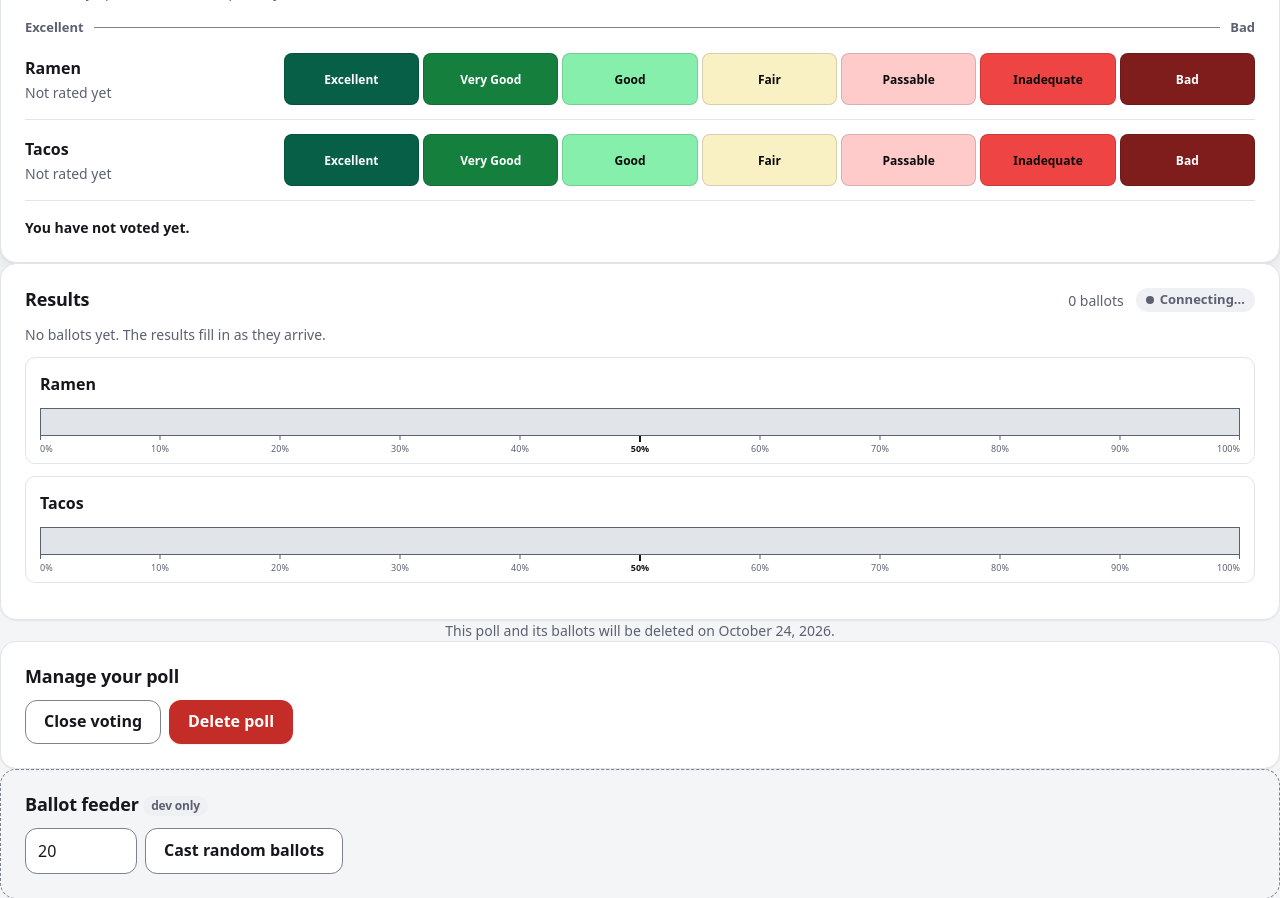
Test: managing a poll › closes voting for good, once the creator confirms
(page scrolled)
Click the button "Close voting": click(93, 722) [25,700,161,744]
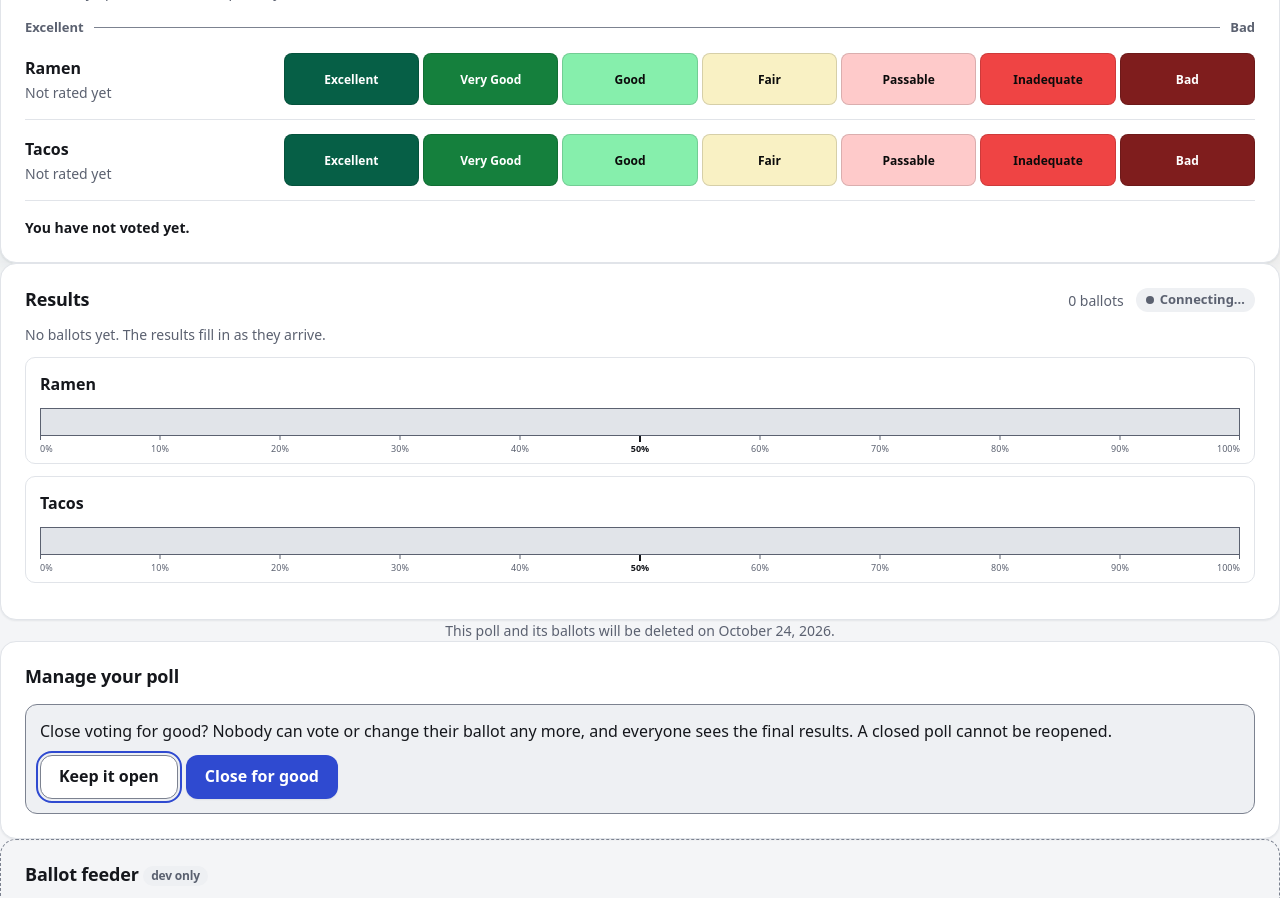
Expected: the dialog shows "A closed poll cannot be reopened.", [40,720,1112,742]
Click the button "Close for good": click(262, 777) [186,755,338,799]
(page scrolled)
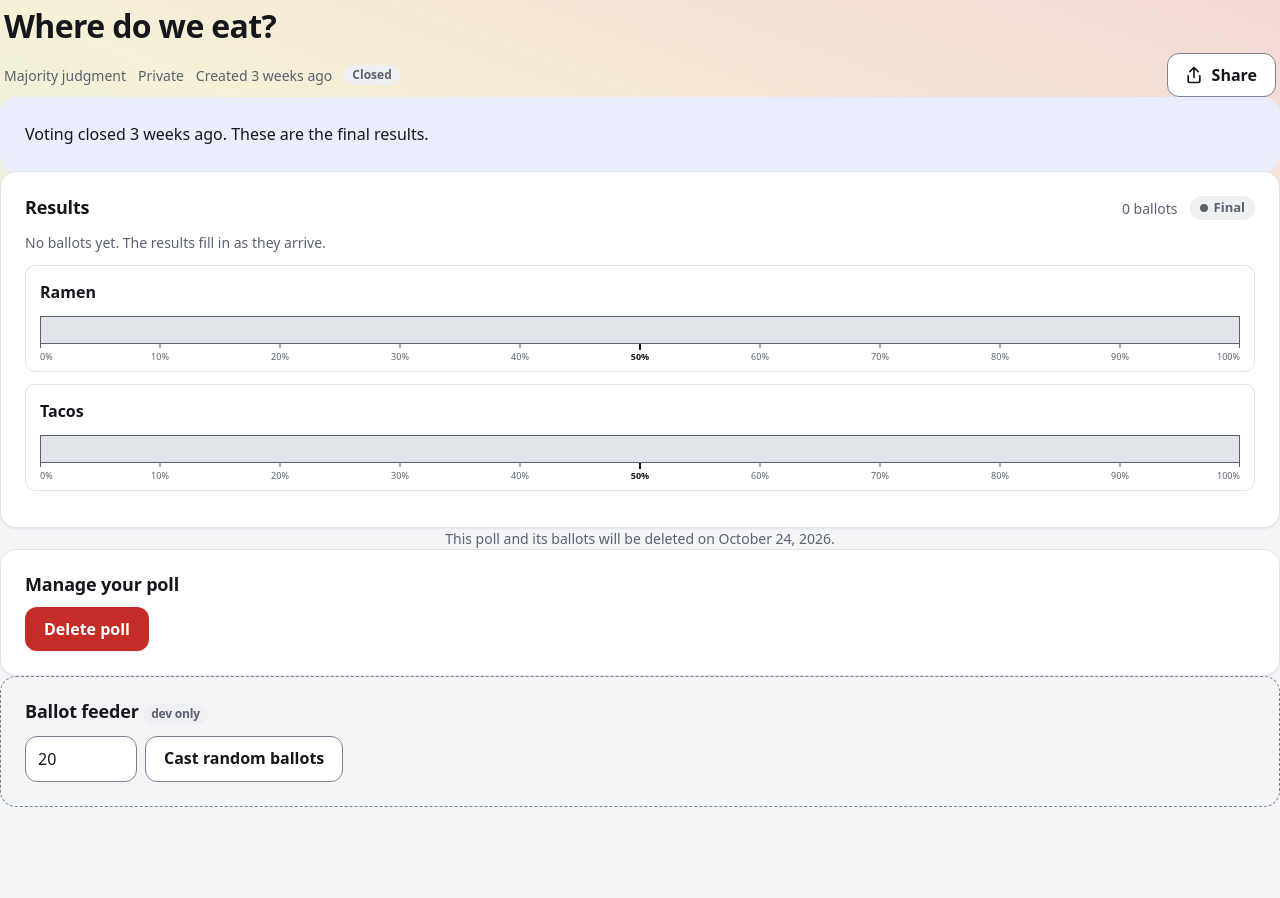
Expected: the text "These are the final results" is shown, [223,123,429,145]
Expected: the button "Delete poll" is shown, [25,608,149,652]
